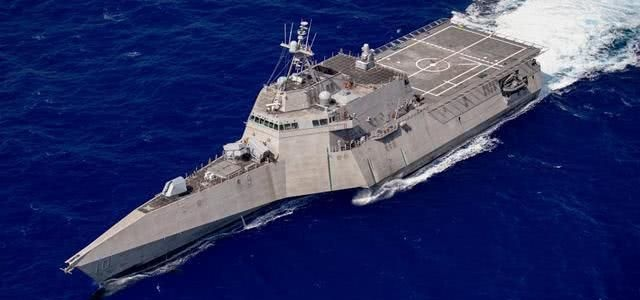warship: (54, 7, 548, 286)
